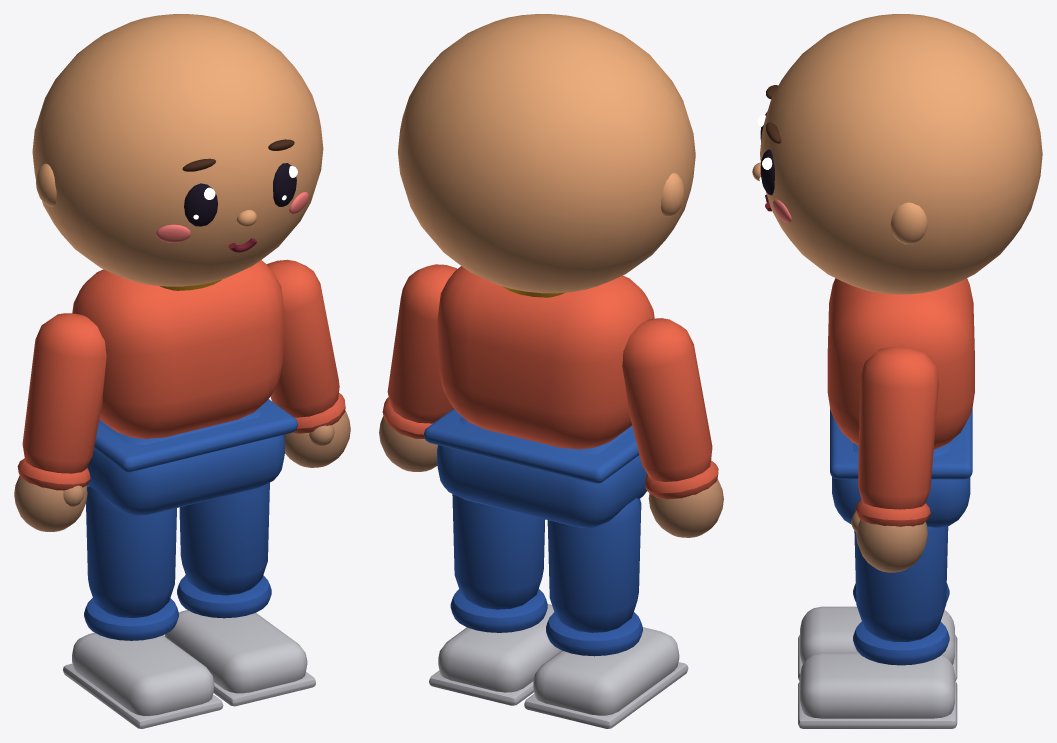
Rendered from body_adult_sweater.glb.
3 views of the same model, side by side, from view 1: azimuth 30°, elevation 25°; view 2: azimuth 150°, elevation 25°; view 3: azimuth 270°, elevation 25° (orthographic). The views are drawn at different scales.
Visible parts, largest first — view 1: Head, Torso, LegR, LegL, ArmR, Hips, ArmL; view 2: Head, Torso, LegR, LegL, Hips, ArmR, ArmL; view 3: Head, LegL, ArmL, Torso, Hips, LegR.
Part boxes in pixels (box(x1,y1,x2,y2)): Head: box(32, 14, 323, 286); Torso: box(72, 260, 284, 438); LegR: box(63, 486, 223, 728); LegL: box(164, 482, 315, 706); ArmR: box(14, 313, 106, 531); Hips: box(86, 399, 297, 515); ArmL: box(267, 259, 350, 467); Head: box(398, 14, 695, 293); Torso: box(437, 266, 654, 449); LegR: box(524, 498, 688, 728); LegL: box(429, 494, 561, 705); Hips: box(424, 408, 646, 527); ArmR: box(622, 318, 723, 537); ArmL: box(379, 264, 457, 471); Head: box(752, 14, 1042, 294); LegL: box(798, 526, 957, 728); ArmL: box(851, 346, 939, 572); Torso: box(827, 278, 974, 449); Hips: box(830, 408, 972, 527); LegR: box(798, 583, 957, 680).
Size of the model in its own units: 0.7408 by 1.4 by 0.5599.
